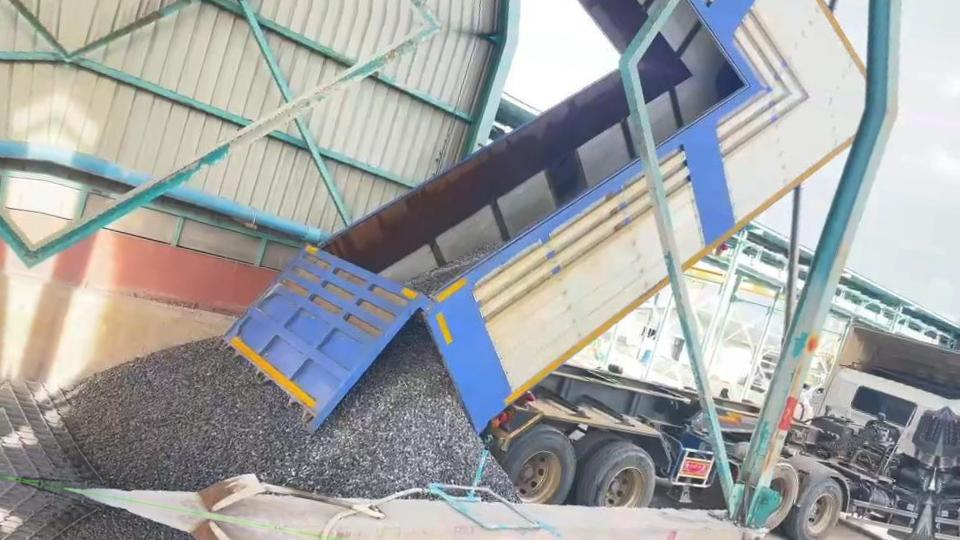gravel: (65, 318, 482, 497), (405, 243, 500, 294), (483, 456, 516, 500)
